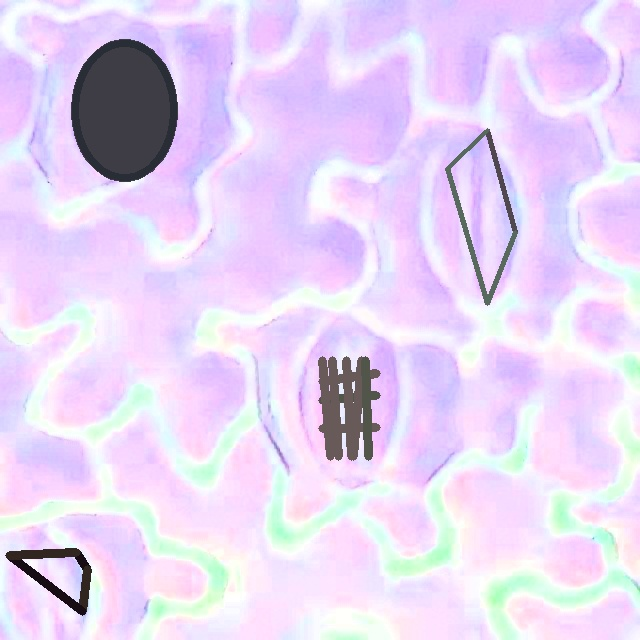close: (318, 356, 380, 459), (5, 548, 91, 615)
open: (71, 39, 177, 182), (445, 128, 517, 305)
